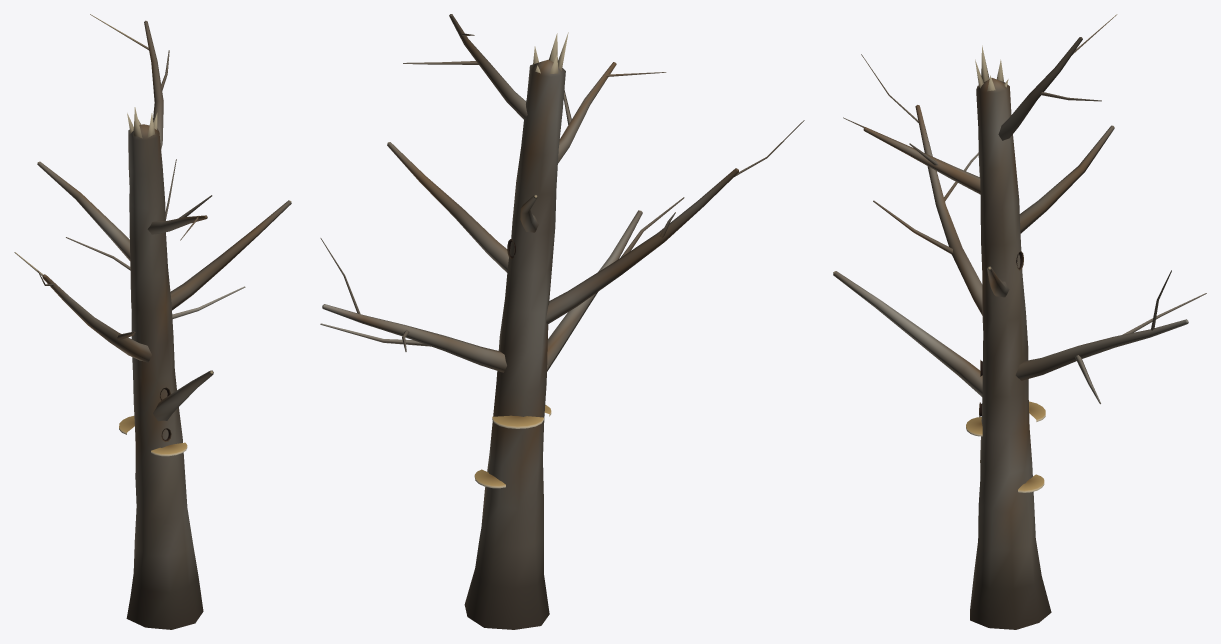
The model's file is snag-a.lod0.glb.
The picture shows the model from 3 angles, left to right: view 1: azimuth 30°, elevation 25°; view 2: azimuth 150°, elevation 25°; view 3: azimuth 270°, elevation 25°; orthographic projection. The views are drawn at different scales.
Size of the model in its own units: 4.1 by 6.9 by 3.96.
